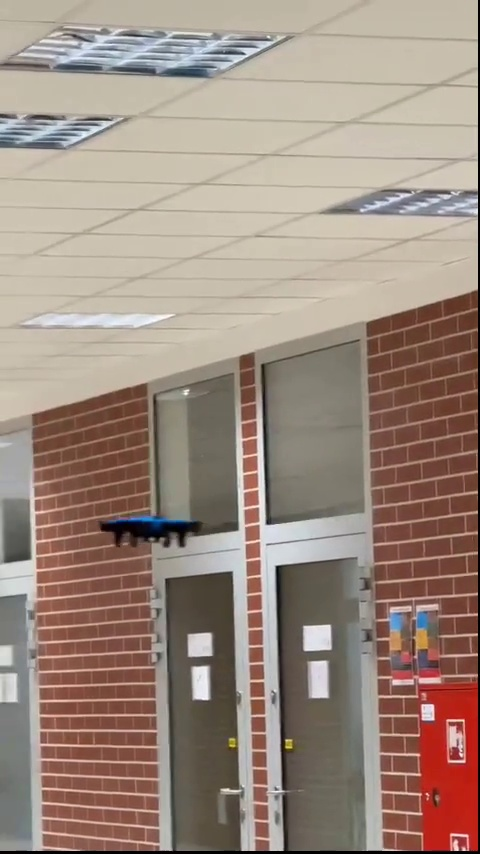drone: (94, 514, 204, 560)
